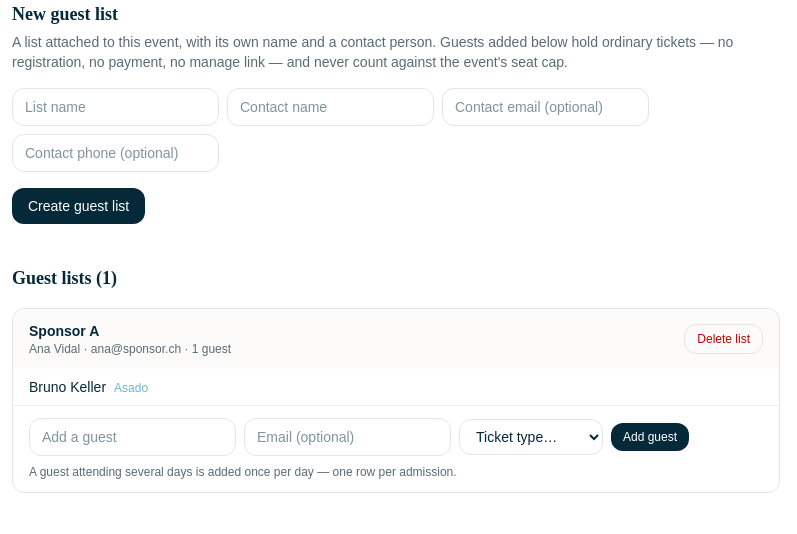
Test: GuestList — adding a guest to an existing list › requires a ticket type before submitting
Type "Chiara Bosco" into the field named "Guest name" at x=132, y=437, box [29,418,236,456]
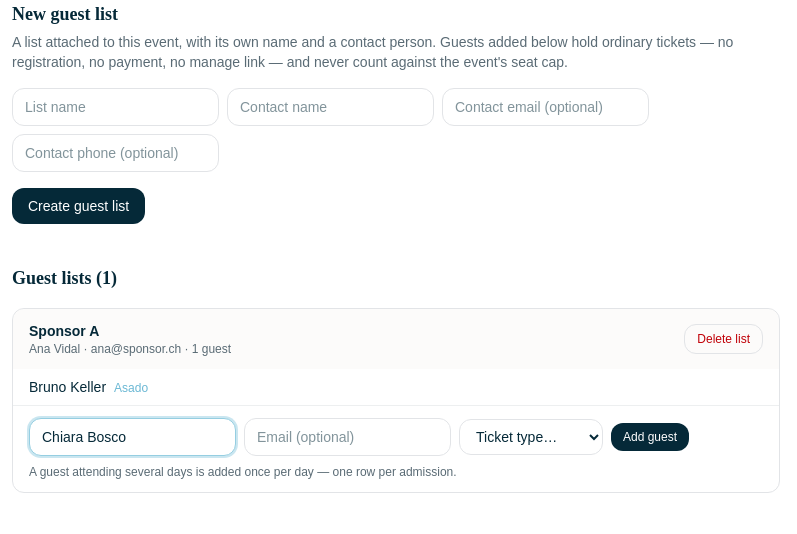
Click the button "Add guest" at x=650, y=437, box [611,423,689,451]
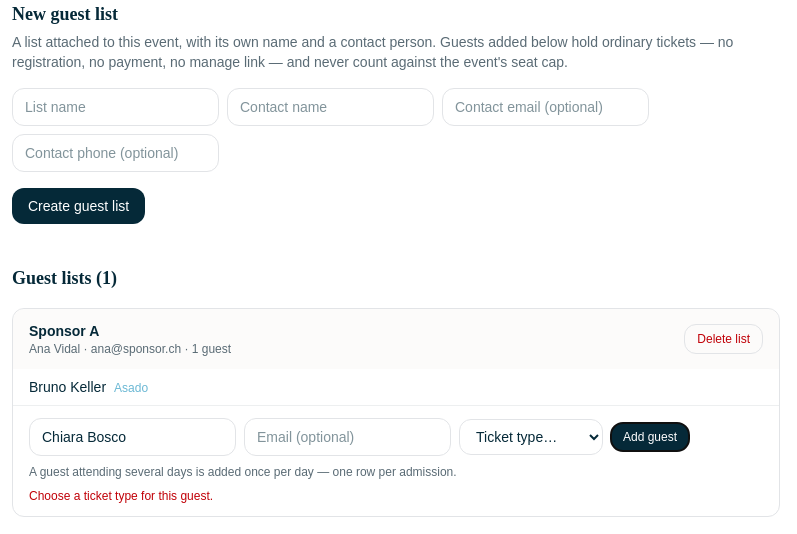
Expected: the text "Choose a ticket type for this guest." is shown, [29,489,213,503]
